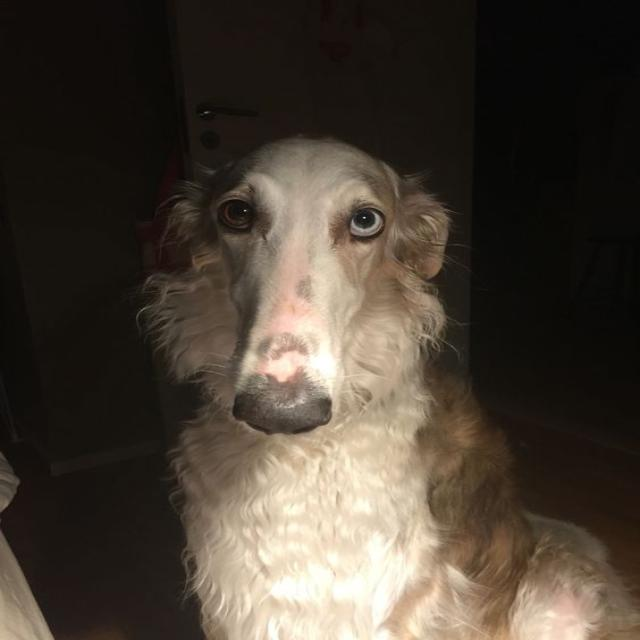dog: (72, 74, 523, 496)
